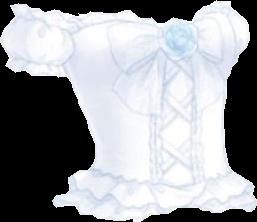Bodice: (52, 7, 256, 221)
Neckline: (89, 168, 234, 188), (75, 7, 206, 25)
Sleeve: (0, 4, 76, 77)
Sleeveline: (68, 16, 75, 50)
Waistline: (52, 201, 256, 221)
